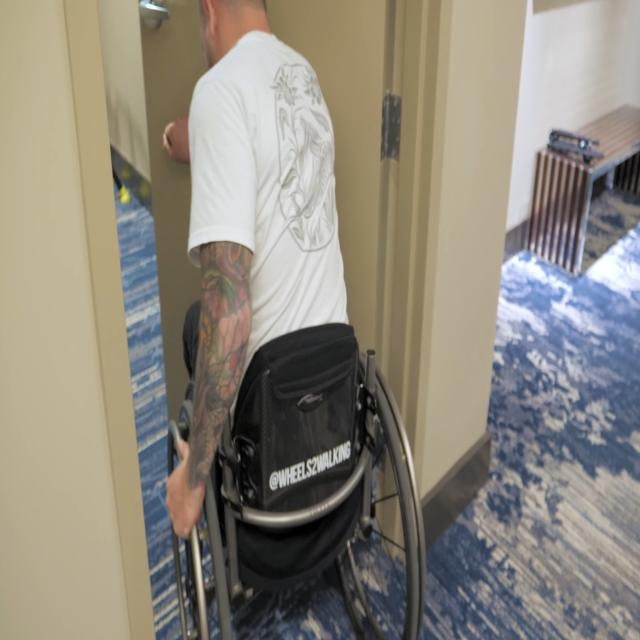wheelchairs: (163, 310, 430, 640)
